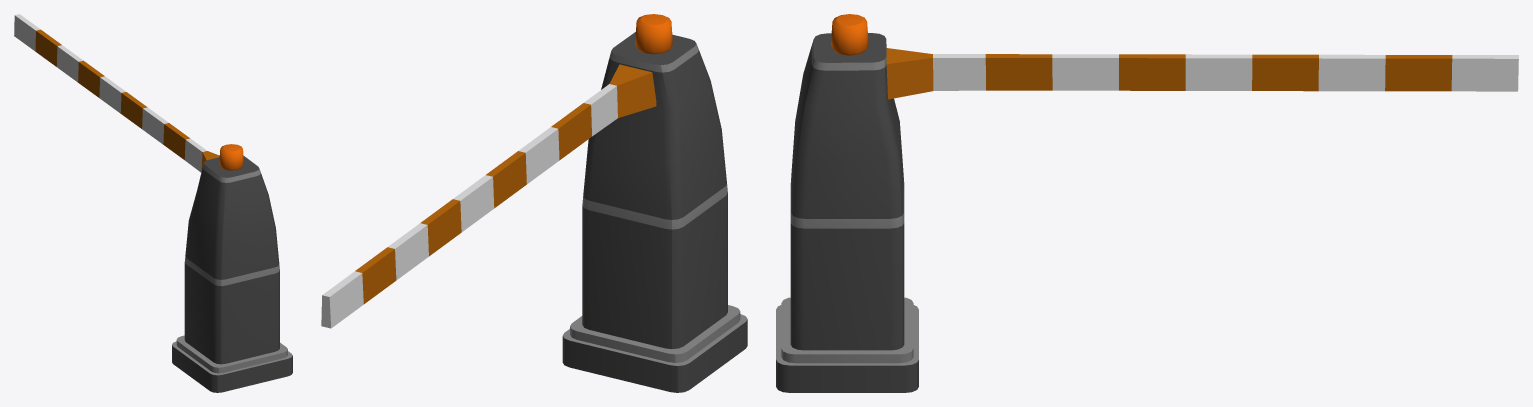
The model's file is lowpoly_road_barrier.glb.
3 renders of one model, left to right at view 1: azimuth 30°, elevation 25°; view 2: azimuth 150°, elevation 25°; view 3: azimuth 270°, elevation 25°, orthographic. The views are drawn at different scales.
Visible parts, largest first — view 1: Stand, Barrier; view 2: Stand, Barrier; view 3: Stand, Barrier.
Boxes of the visible parts, left/top/right/bottom form: Stand: left=172, top=144, right=292, bottom=392; Barrier: left=14, top=14, right=219, bottom=172; Stand: left=562, top=14, right=747, bottom=392; Barrier: left=321, top=64, right=656, bottom=328; Stand: left=776, top=14, right=918, bottom=392; Barrier: left=886, top=48, right=1518, bottom=99.
Bounding box in the file's own units: 2.04 × 5.25 × 10.3.
